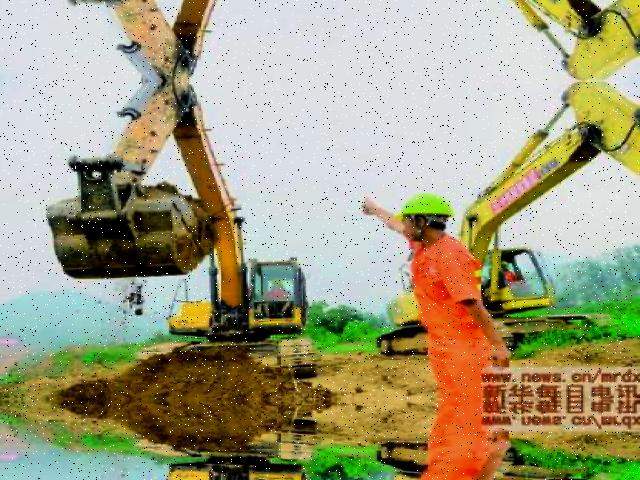Helmet: (391, 188, 456, 220)
